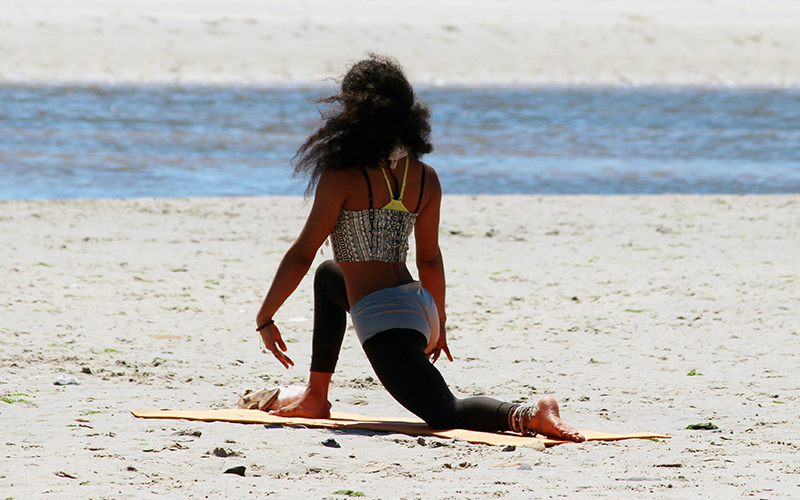Person: (251, 57, 589, 444)
